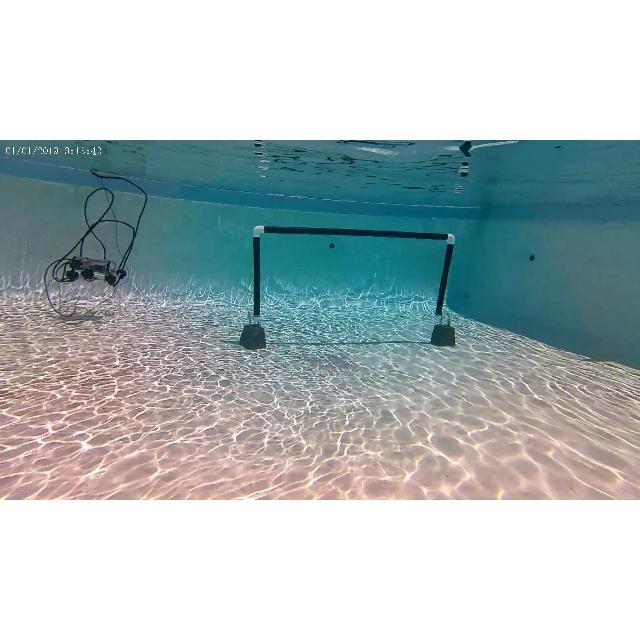prequal gate: (254, 225, 456, 318)
prequal gate leg l: (248, 222, 268, 330)
prequal gate leg r: (428, 224, 458, 324)
